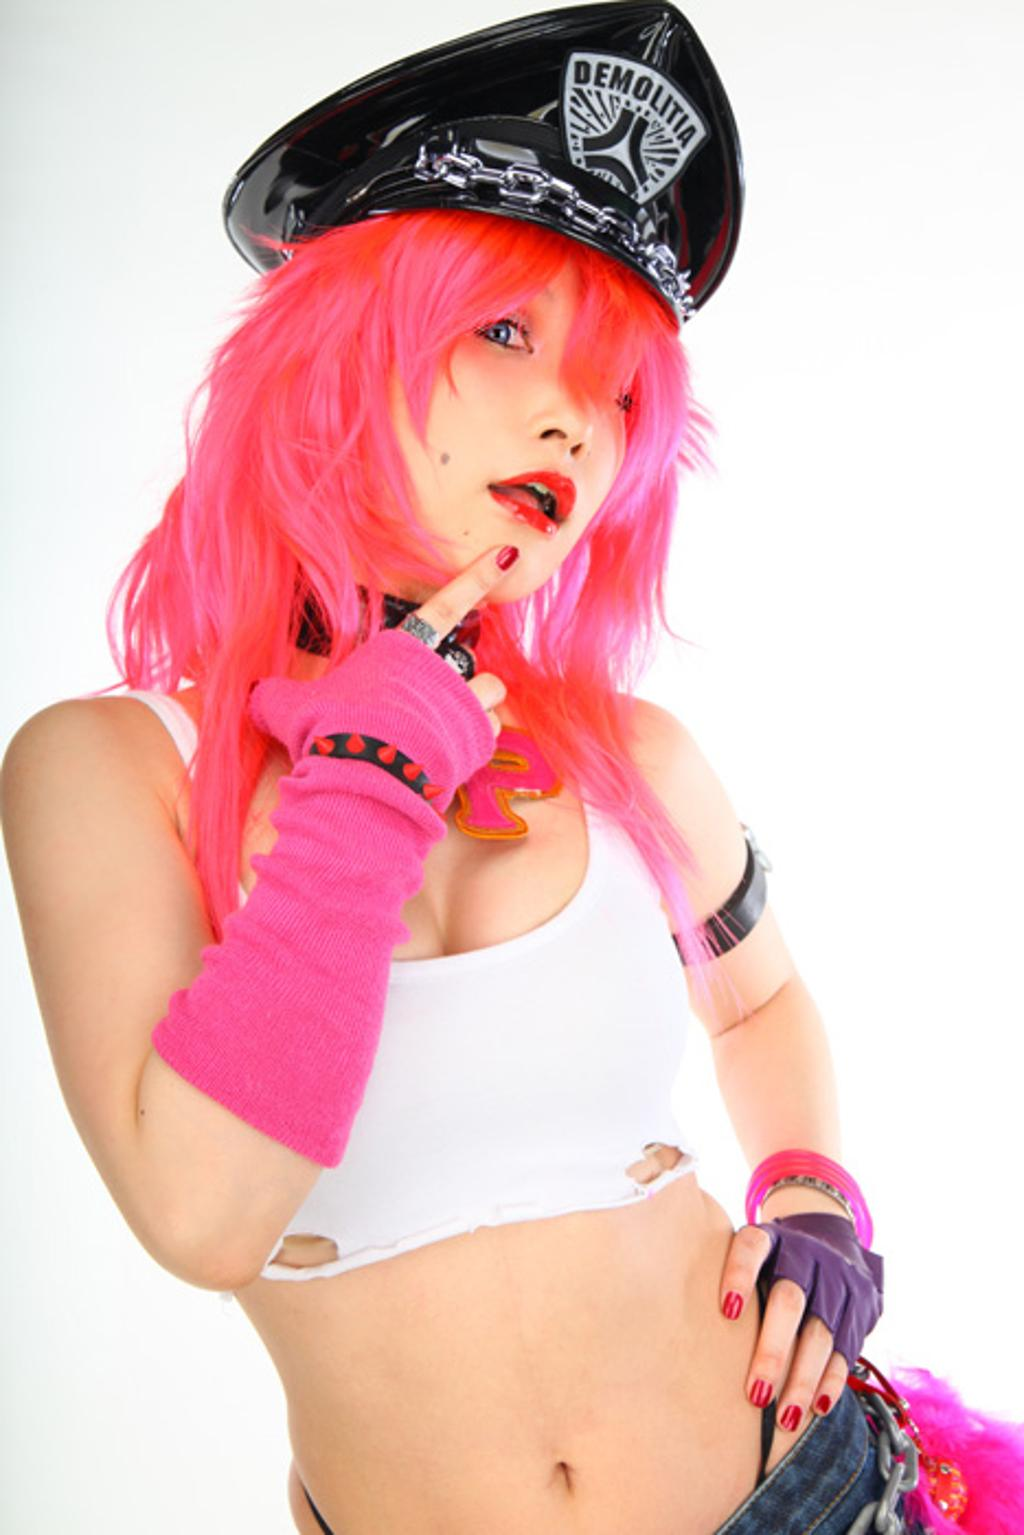face: (401, 266, 632, 601)
